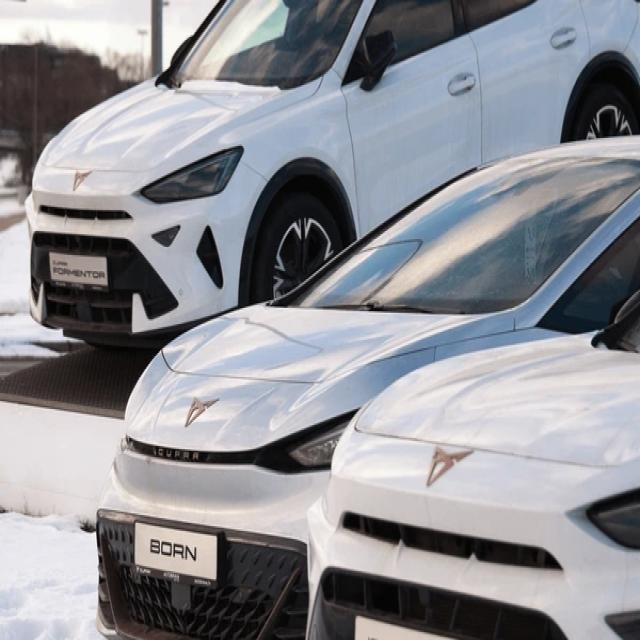cupra: (418, 432, 482, 499), (183, 381, 218, 437), (71, 166, 98, 194)
